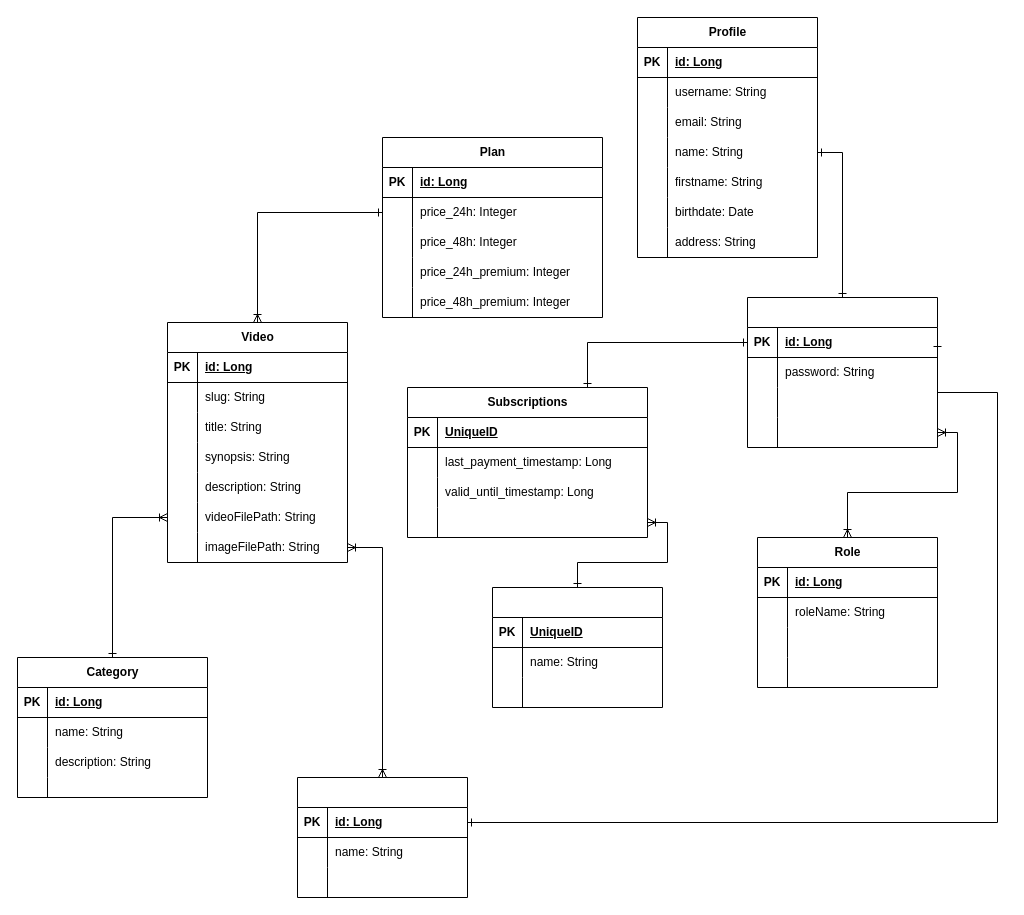
The diagram is 1024 pixels wide and 915 high, and some of its shapes have lost their labels. Each missing label, with the box of its shape:
ApplicationUser: (746, 296, 938, 448)
SubscriptionType: (492, 586, 662, 708)
Watchlists: (296, 776, 468, 898)
